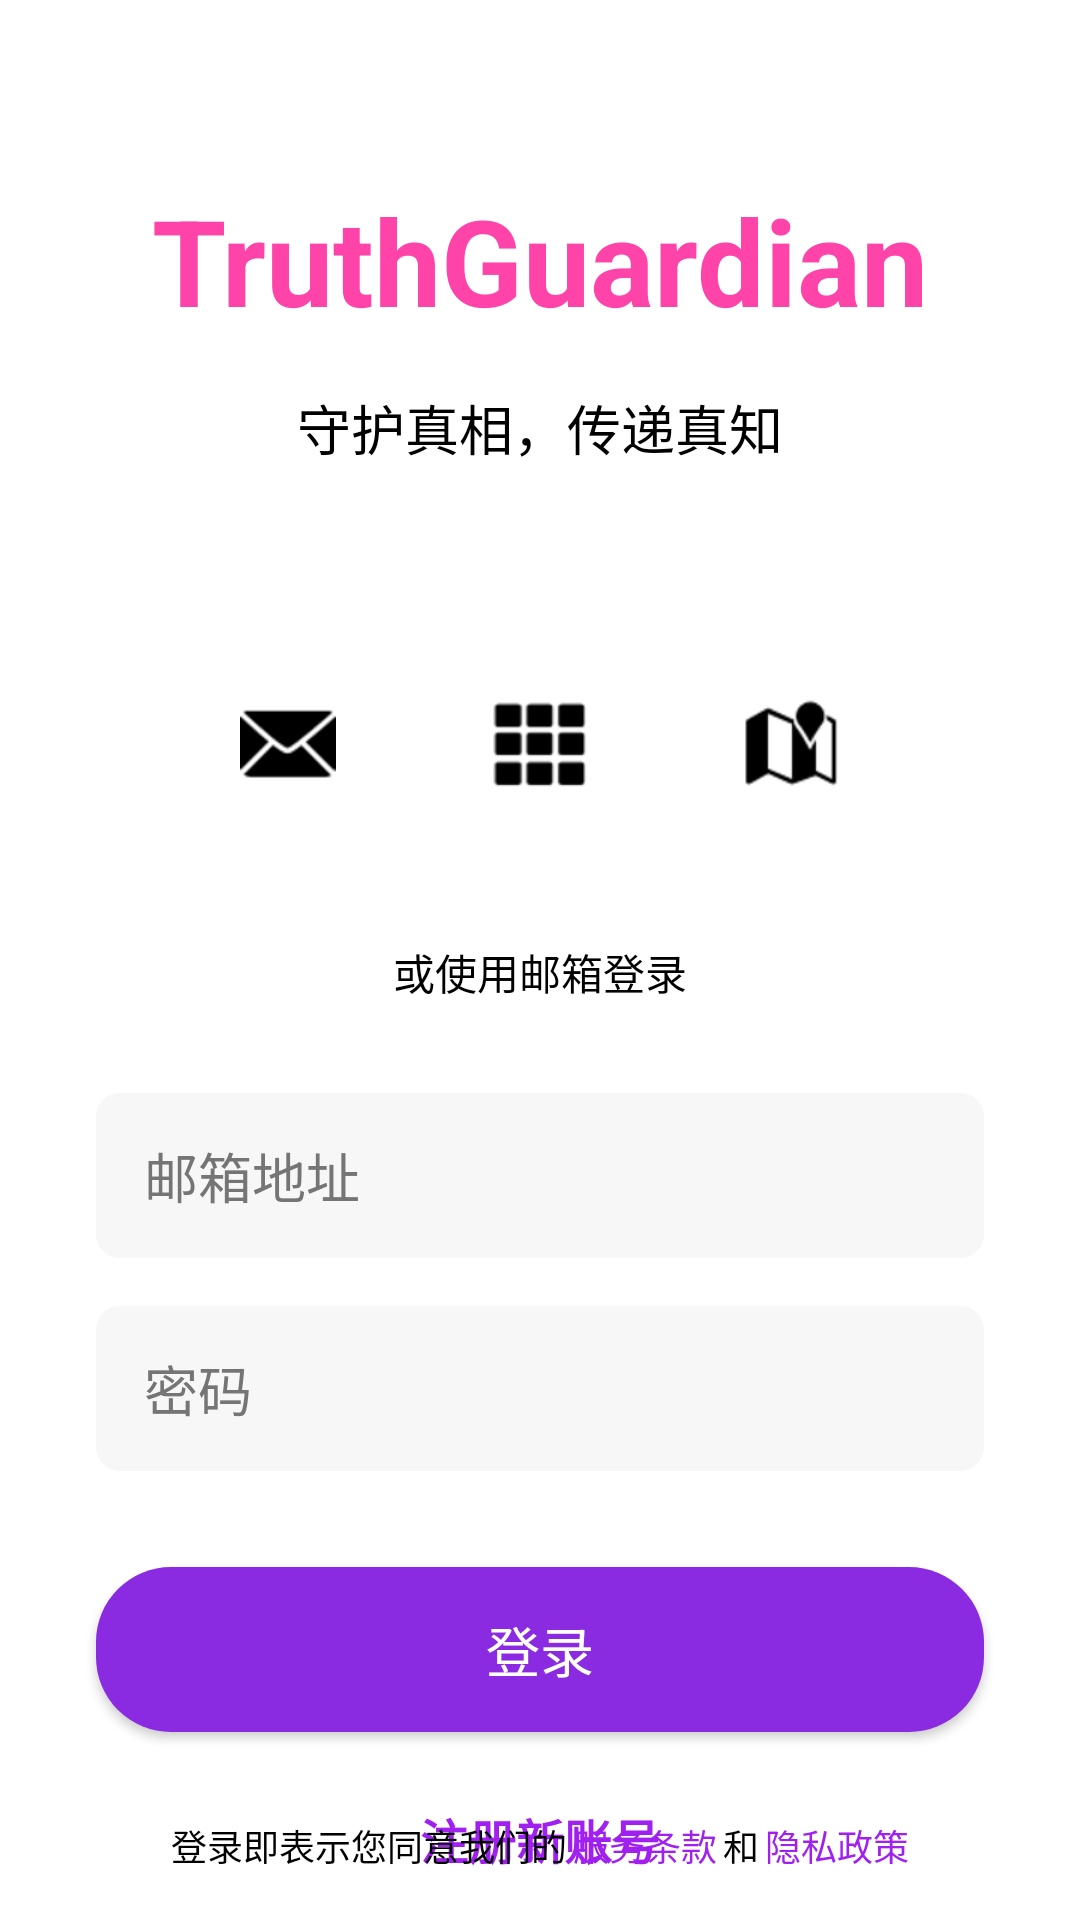

Icons on this 1080 x 1920 Android screen, each with its box as (x1, y1, x2, y2):
dialer: (493, 702, 586, 786)
email: (240, 710, 336, 778)
map: (745, 700, 837, 785)
